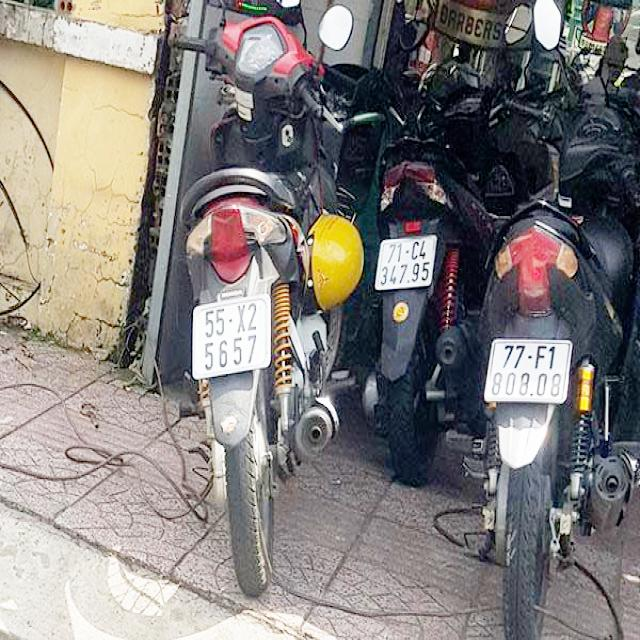license_plate: (198, 298, 270, 379), (486, 343, 571, 399), (376, 239, 436, 290)
